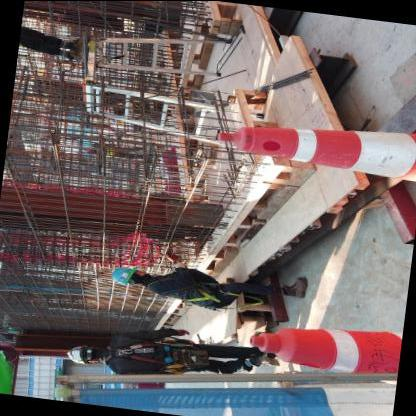Helmet: (106, 257, 139, 287)
safety-shoe: (279, 275, 311, 300)
